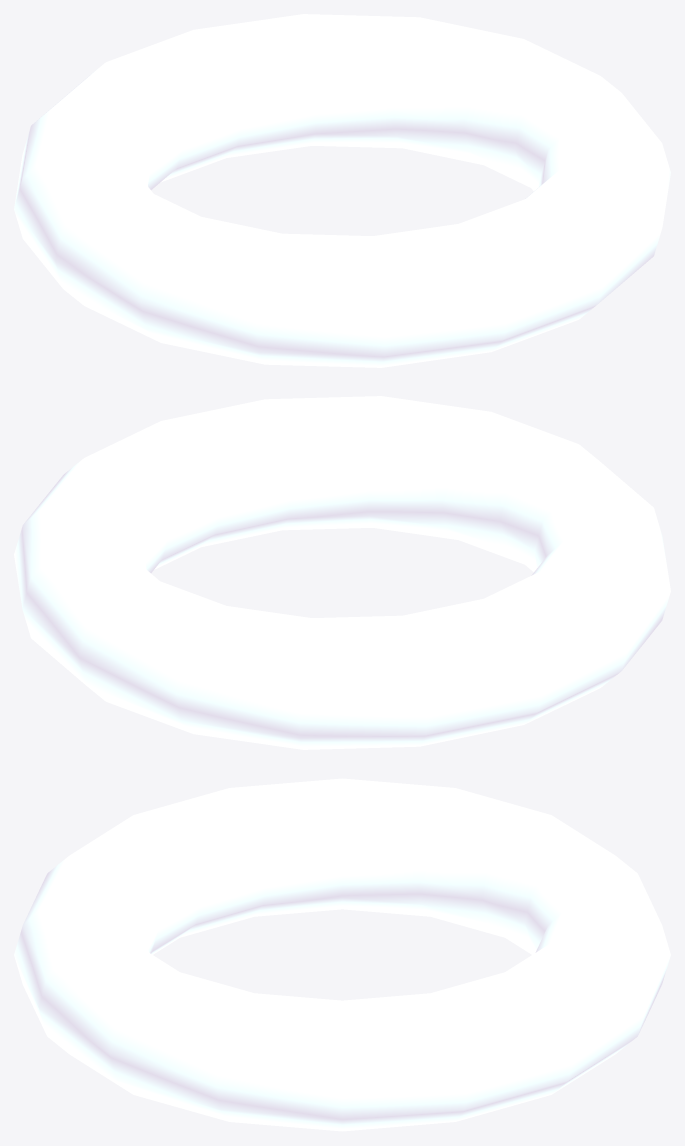
3 views of the same model, one above another, from view 1: azimuth 30°, elevation 25°; view 2: azimuth 150°, elevation 25°; view 3: azimuth 270°, elevation 25° (orthographic).
Visible parts, largest first — view 1: Torus; view 2: Torus; view 3: Torus.
Boxes of the visible parts, left/top/right/bottom form: Torus: left=14, top=14, right=670, bottom=367; Torus: left=14, top=396, right=670, bottom=749; Torus: left=14, top=778, right=670, bottom=1131.
Size of the model in its own units: 1.25 by 0.25 by 1.25.
